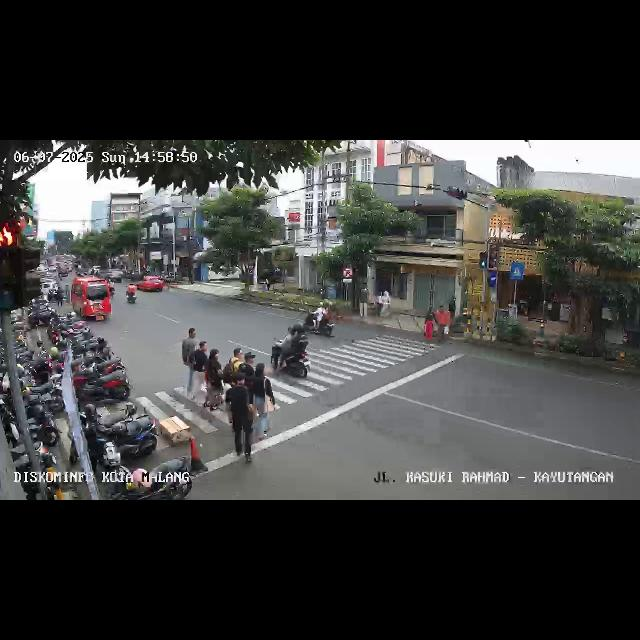car: (70, 276, 112, 324), (140, 276, 164, 296)
motorcycle: (270, 324, 312, 381), (306, 302, 338, 338), (125, 280, 138, 304)
person: (228, 378, 256, 458), (255, 362, 277, 440), (202, 348, 224, 412), (181, 327, 197, 399), (192, 340, 208, 400), (223, 347, 245, 385), (436, 305, 450, 343), (238, 351, 256, 377), (376, 289, 390, 317), (424, 307, 434, 339), (358, 286, 368, 316)
